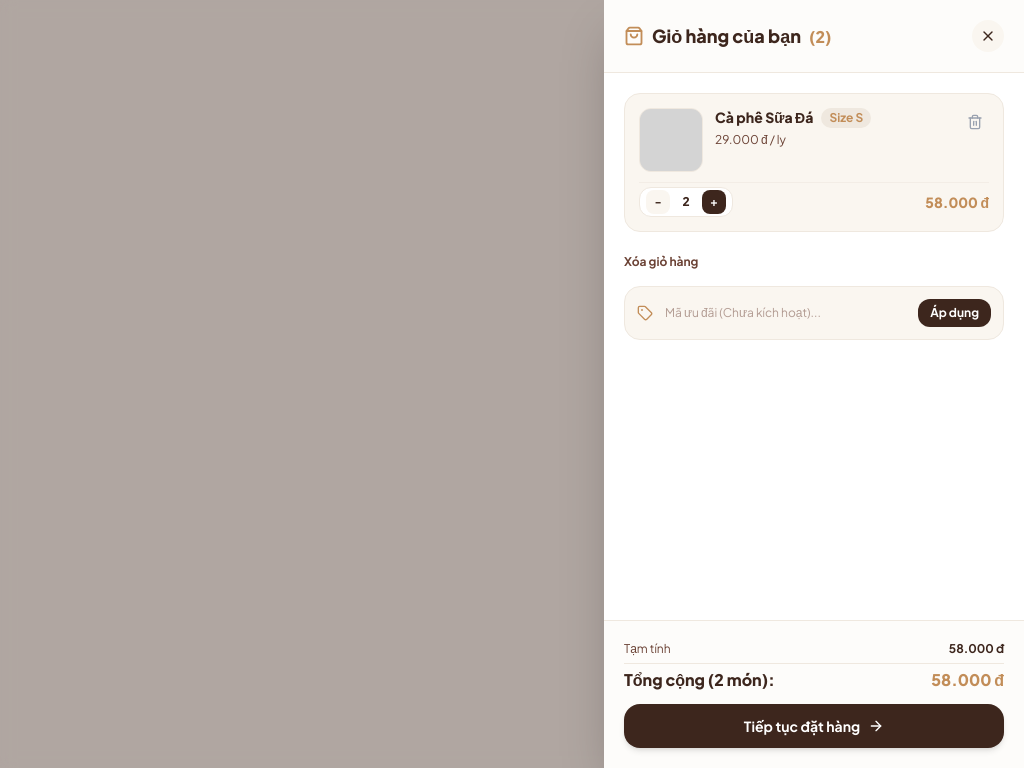
Scenario: PR #41 Review Fixes Verification Suite (FIX-01 through FIX-05) › FIX-02: Voucher & Payment Amount Consistency › rejects unsupported voucher code and does NOT reduce total payment amount
In the field with placeholder "Mã ưu đãi (Chưa kích hoạt)...": (786, 313) x1=661 y1=305 x2=910 y2=321, type "BREW10"
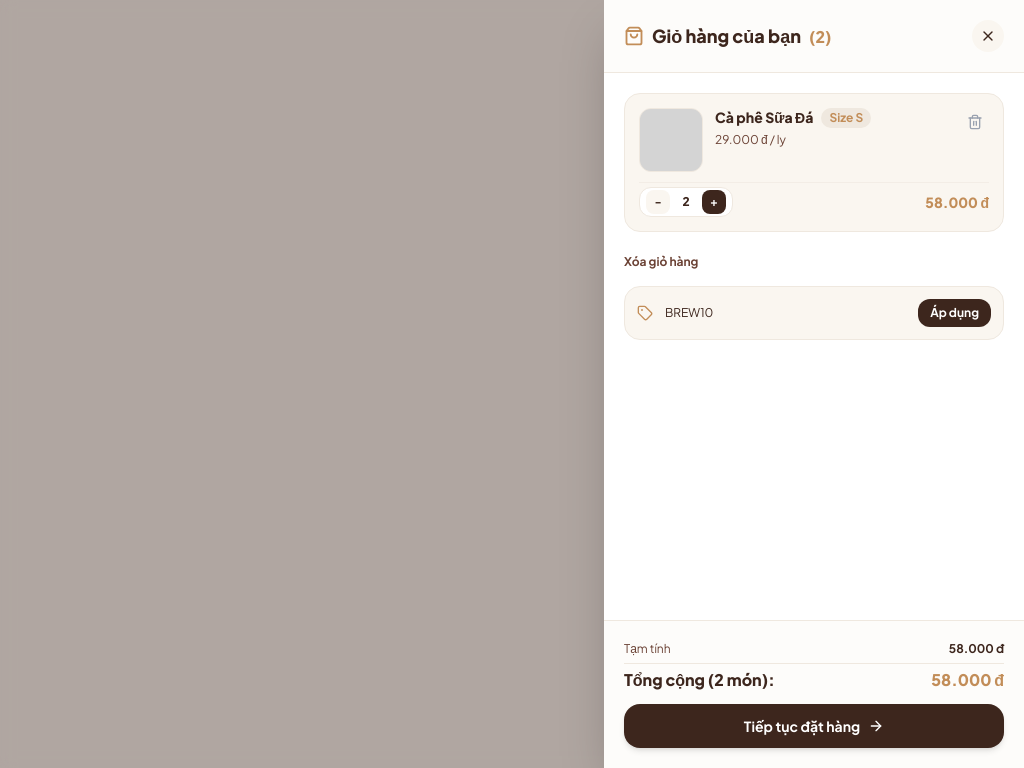
Click the button "Áp dụng": (955, 313) x1=918 y1=299 x2=991 y2=327
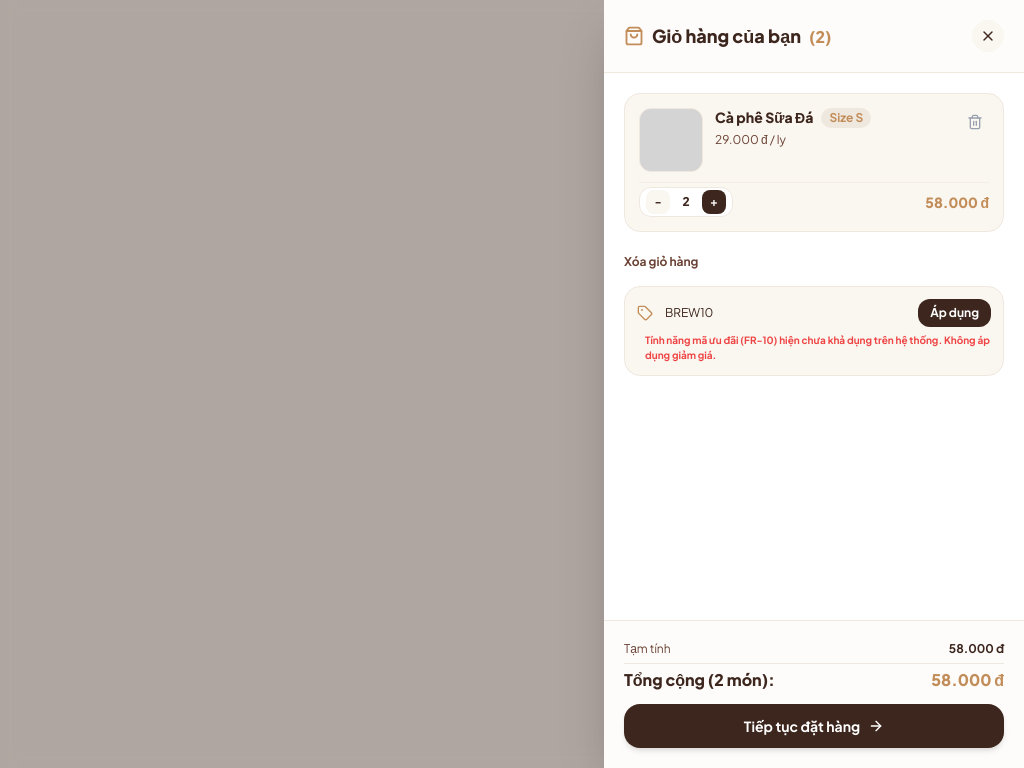
Expected: the text "Tính năng mã ưu đãi (FR-10) hiện chưa khả dụng trên hệ thống" is shown, x1=645 y1=334 x2=990 y2=361
